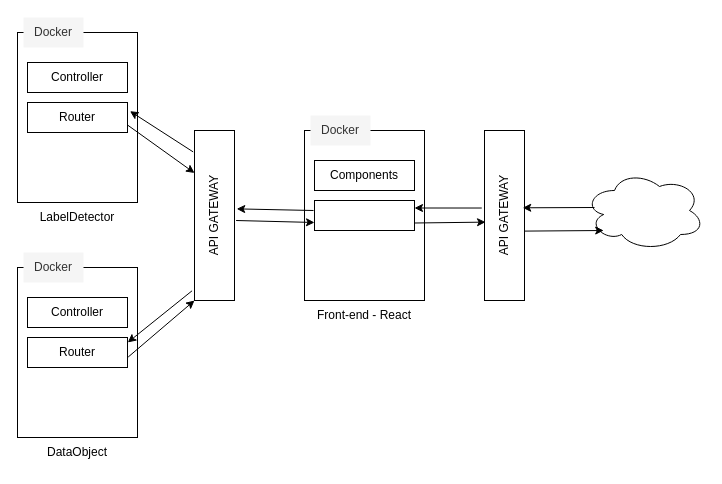
Image size: 722x484. Some labels were removed from this diagram. The centre of each missing label's shape, as x and y in pixels:
"API" goes at pixel 364 215.
"WEB" goes at pixel 644 210.
